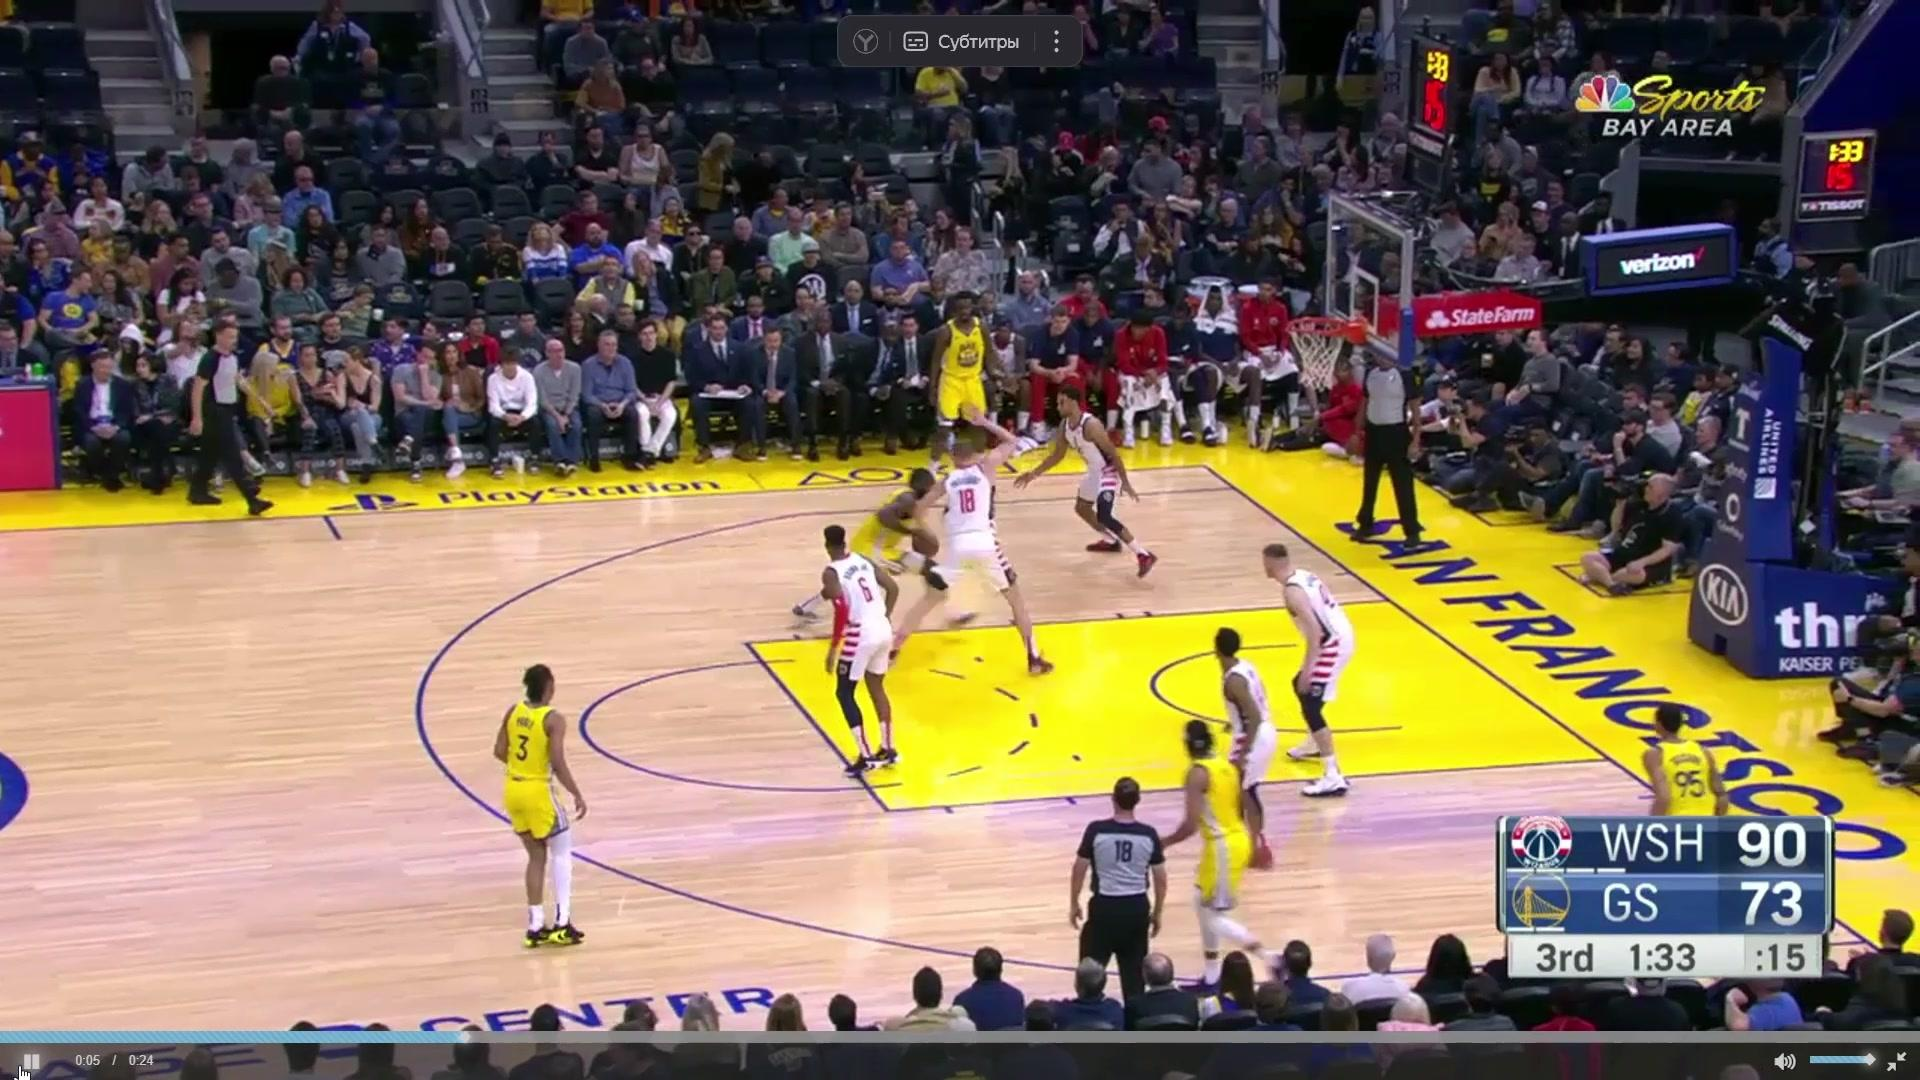foul: (833, 423, 1072, 676)
